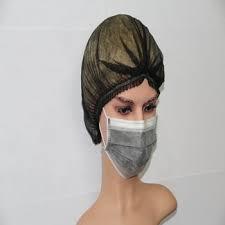mask: (94, 118, 165, 177)
